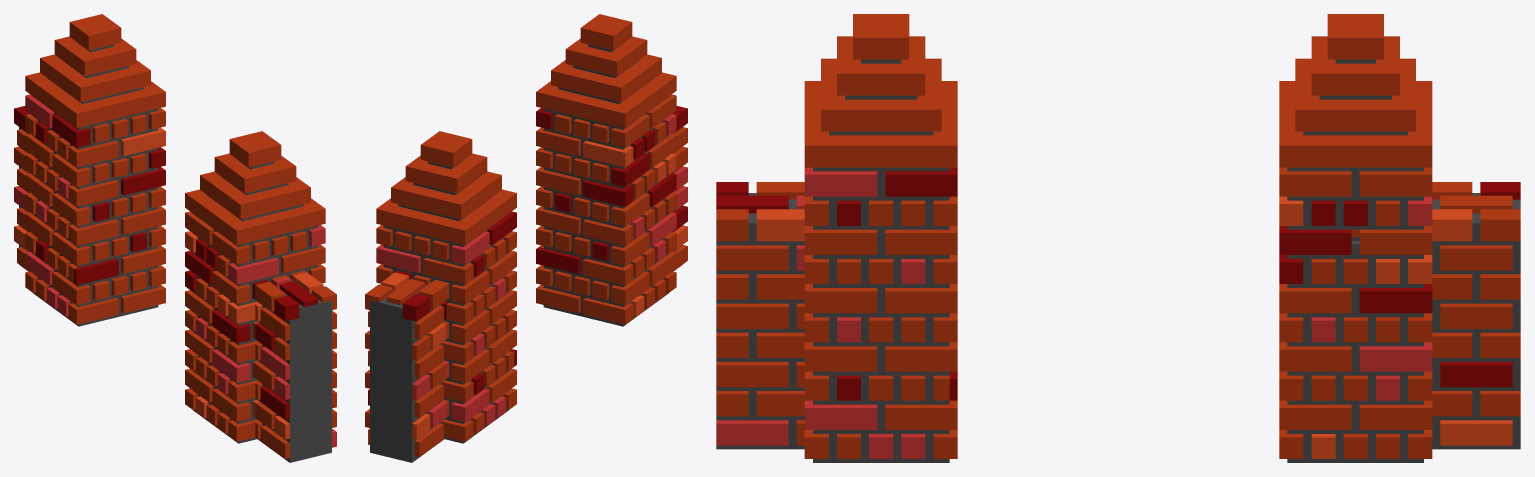
The model's file is Fences-0-Brick Door.obj.
3 renders of one model, left to right at view 1: azimuth 30°, elevation 25°; view 2: azimuth 150°, elevation 25°; view 3: azimuth 270°, elevation 25°, orthographic. The views are drawn at different scales.
Visible parts, largest first — view 1: Brick Door; view 2: Brick Door; view 3: Brick Door.
Part boxes in pixels (left/top/right/bottom): Brick Door: left=14, top=14, right=336, bottom=462; Brick Door: left=365, top=14, right=687, bottom=462; Brick Door: left=716, top=14, right=1520, bottom=462.
Size of the model in its own units: 1.9 by 5.6 by 10.
1 material, 1 textured.
